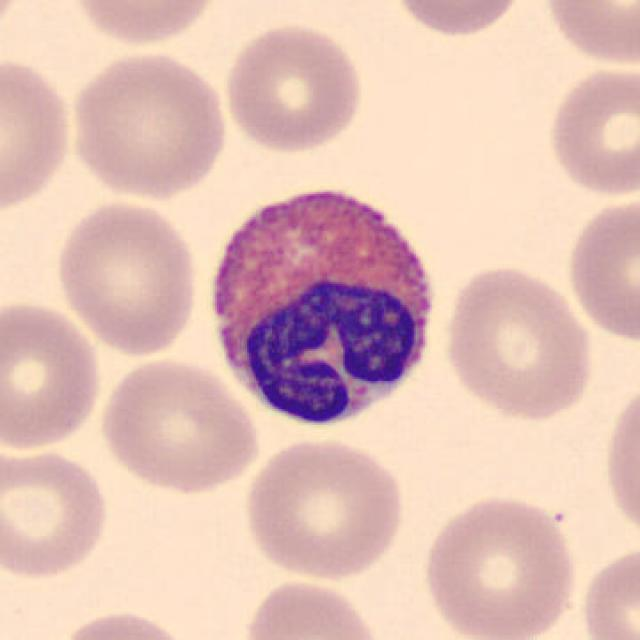Eosinophil: (196, 169, 450, 441)
RBC: (64, 46, 231, 203), (439, 261, 597, 423), (238, 434, 409, 582), (49, 196, 202, 358), (418, 490, 581, 640), (94, 354, 263, 496), (219, 18, 368, 155), (0, 298, 105, 455), (0, 444, 114, 584), (542, 62, 638, 199), (0, 51, 76, 218), (562, 192, 638, 346), (236, 575, 390, 640), (67, 0, 224, 49), (599, 374, 640, 548), (538, 0, 640, 69), (574, 539, 640, 640), (388, 0, 530, 39), (53, 606, 195, 640), (0, 0, 28, 46)
